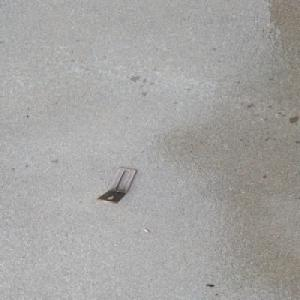MetalPart: (96, 167, 137, 203)
